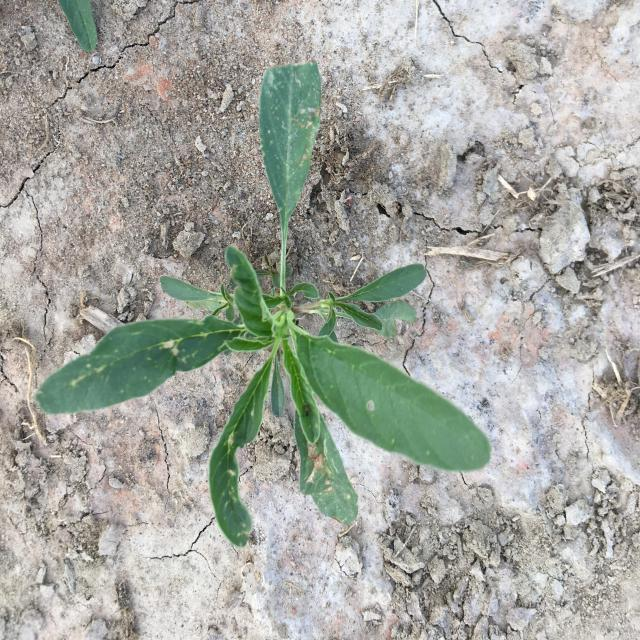Waterhemp: (36, 59, 491, 548)
